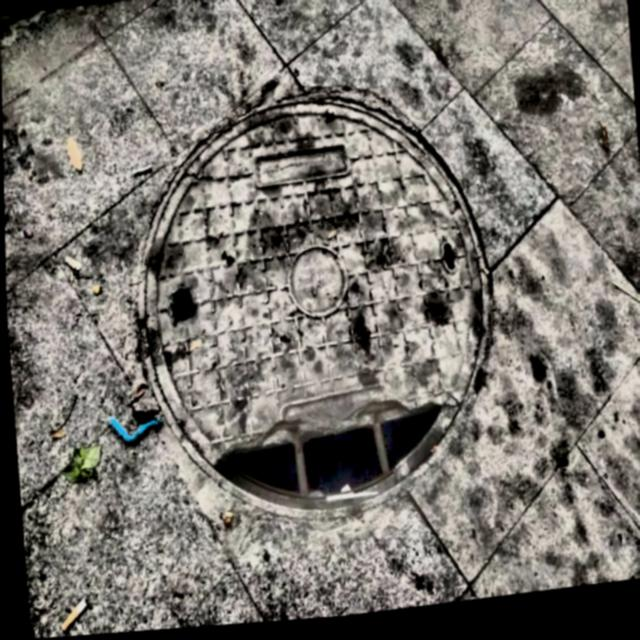open_manhole: (136, 97, 485, 515)
